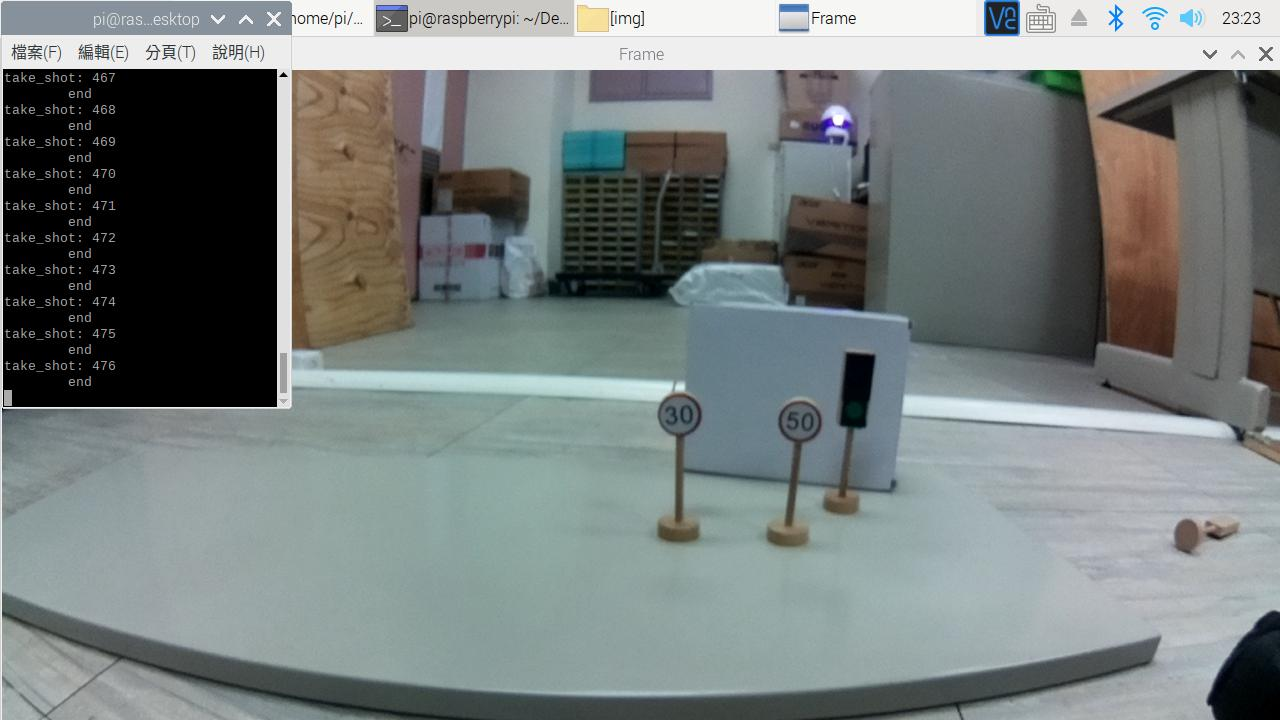Green: (835, 342, 882, 435)
Speed30: (650, 390, 705, 443)
Speed50: (770, 395, 831, 449)
